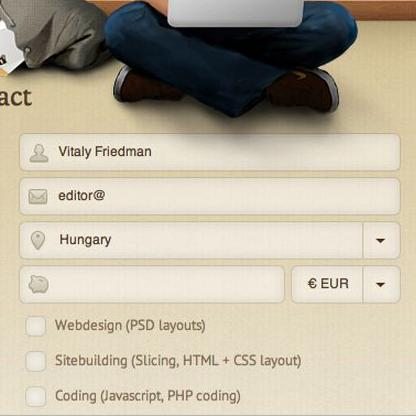checkbox: (25, 316, 48, 338), (25, 351, 47, 372), (25, 385, 45, 407)
checkbox_with_label: (23, 349, 301, 374), (22, 383, 244, 409), (22, 314, 210, 339)
field: (16, 176, 402, 216), (17, 132, 401, 172), (18, 221, 402, 260), (18, 266, 285, 304), (290, 266, 400, 303)
